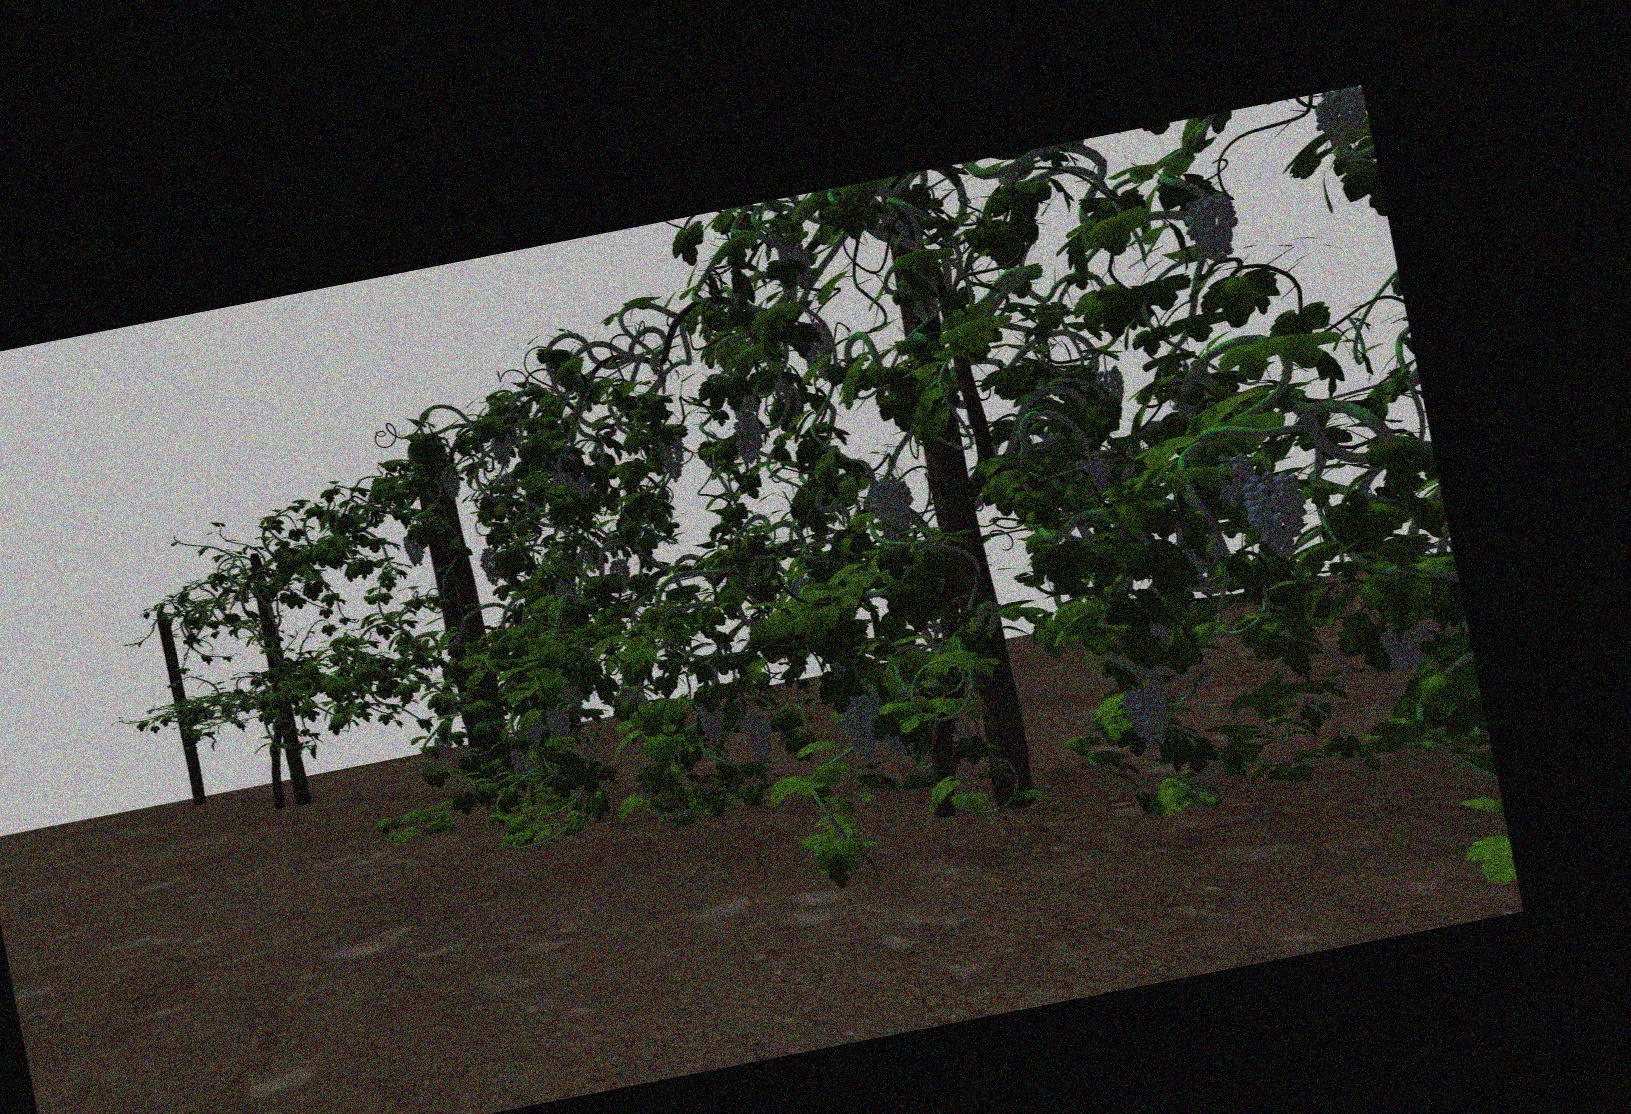grape: (1243, 476, 1310, 561), (1185, 195, 1241, 260), (1120, 677, 1171, 748), (1378, 618, 1436, 677), (839, 695, 881, 760), (873, 480, 916, 538), (1314, 95, 1365, 143), (1215, 454, 1254, 506), (802, 321, 835, 380), (742, 711, 772, 765), (657, 432, 687, 483), (734, 416, 762, 463), (698, 703, 726, 747), (1078, 455, 1113, 491), (490, 428, 516, 468), (1094, 367, 1125, 400), (545, 705, 573, 739), (480, 546, 501, 587), (522, 715, 547, 746), (404, 532, 425, 566), (441, 467, 462, 501), (611, 560, 631, 594), (509, 743, 529, 774), (433, 736, 454, 760)
